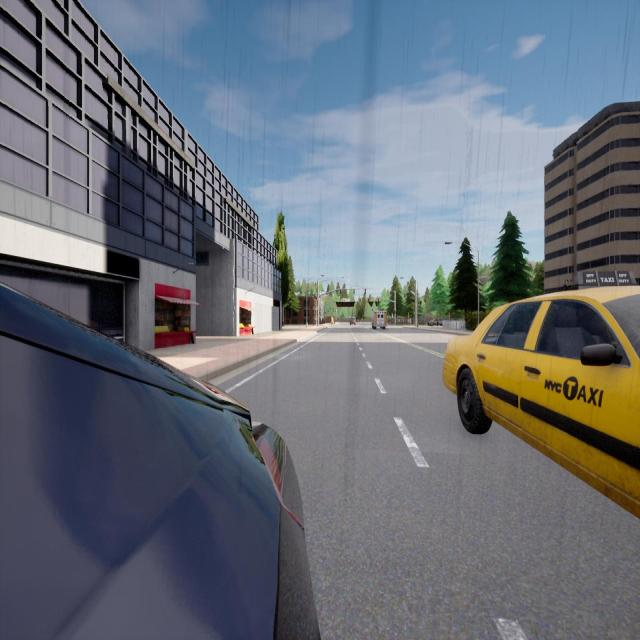Vehicle: (0, 283, 317, 640), (443, 286, 639, 517), (372, 310, 388, 330), (427, 318, 443, 326), (350, 316, 356, 326)
traffic_light: (364, 289, 366, 294), (394, 310, 396, 314), (404, 293, 406, 297), (410, 292, 412, 296), (340, 290, 341, 294), (378, 298, 379, 301), (360, 298, 360, 302), (368, 298, 368, 302), (354, 289, 354, 294)
